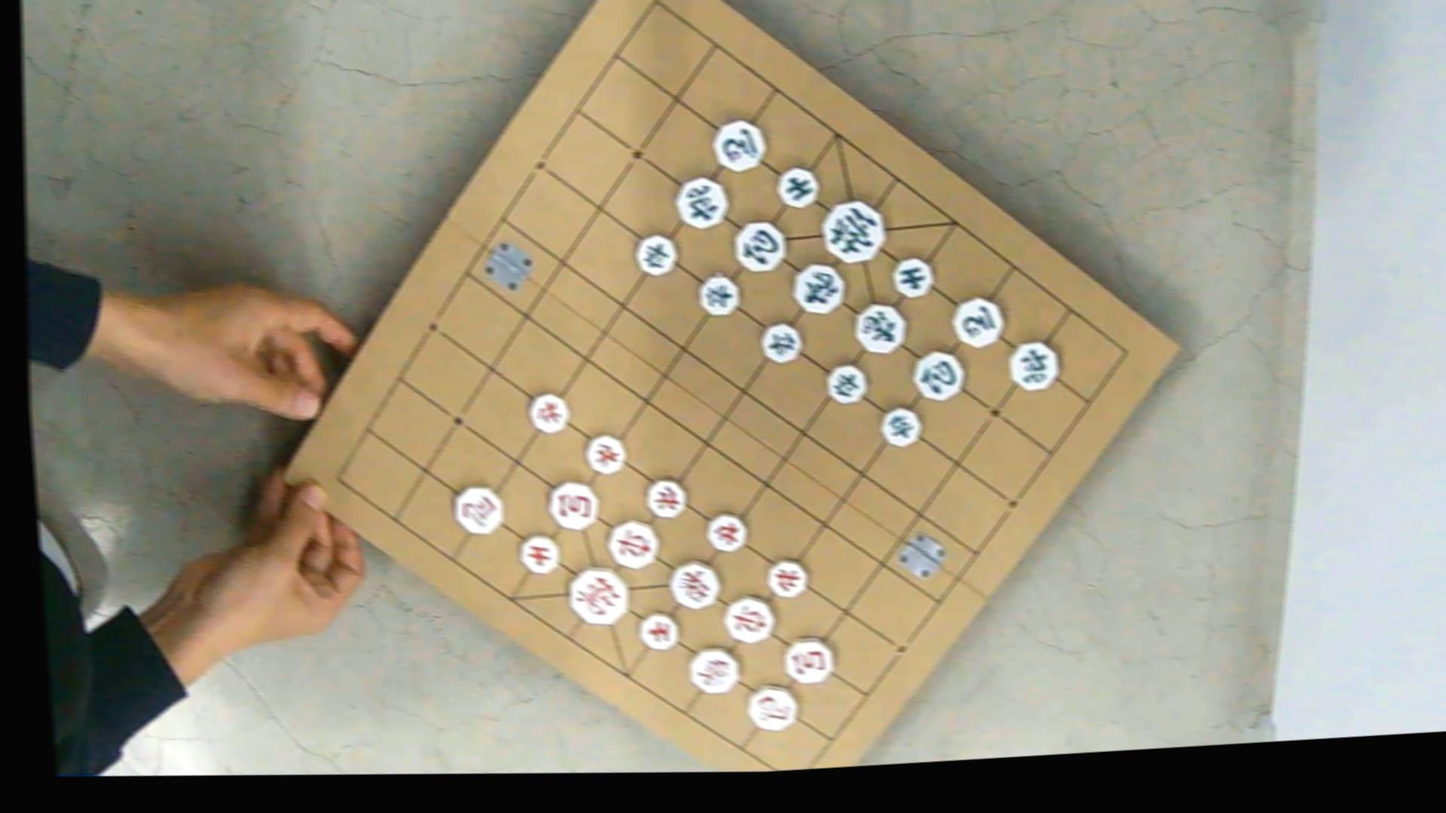cha_green: (672, 174, 729, 230), (1005, 338, 1060, 392)
cha_red: (603, 516, 660, 570), (720, 592, 776, 644)
jol_green: (694, 272, 742, 317), (631, 232, 678, 277), (877, 404, 923, 448), (822, 361, 868, 405), (758, 320, 803, 364)
jol_red: (581, 432, 627, 476), (526, 390, 570, 434), (703, 510, 748, 553), (642, 476, 687, 519), (764, 556, 810, 598)
ma_green: (709, 117, 767, 172), (950, 294, 1005, 348)
ma_red: (742, 681, 801, 732), (449, 483, 505, 536)
po_green: (731, 218, 788, 273), (910, 347, 966, 402)
po_red: (544, 478, 600, 531), (780, 635, 835, 685)
sa_green: (774, 164, 819, 209), (889, 254, 935, 298)
sa_red: (514, 531, 561, 576), (635, 610, 681, 652)
sang_green: (790, 260, 846, 315), (851, 301, 907, 355)
sang_red: (665, 558, 721, 611), (684, 644, 741, 696)
wang_green: (818, 196, 888, 265)
wang_red: (563, 563, 630, 626)
